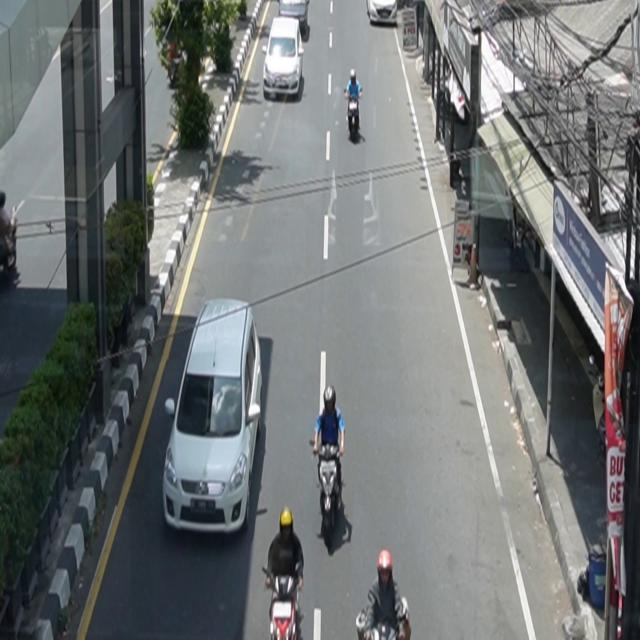car: (163, 298, 263, 536), (263, 16, 305, 100), (366, 1, 398, 26)
